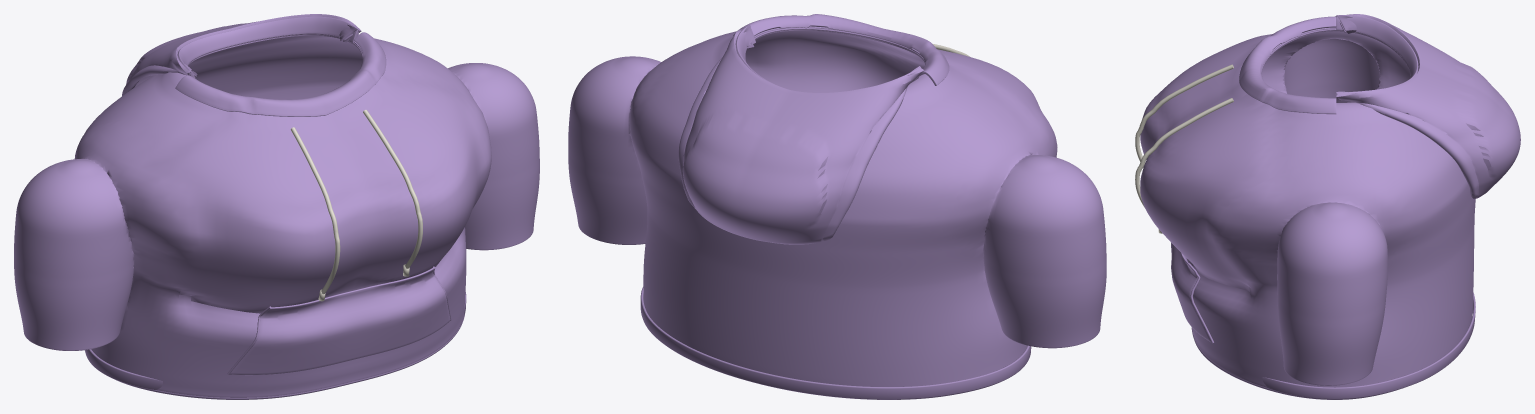
The model's file is Feminine-sweatshirt-top.glb.
The picture shows the model from 3 angles, left to right: view 1: azimuth 30°, elevation 25°; view 2: azimuth 150°, elevation 25°; view 3: azimuth 270°, elevation 25°; orthographic projection. The views are drawn at different scales.
Parts seen in each view (by area): view 1: Clothing / joined sweatshirt186, Hoodie / kangaroo pocket, Hoodie / soft front fold188, Hoodie / seated rear fold187, Hoodie / resting hood, Hoodie / ribbed hem, Hoodie / drawcord -1 export, Hoodie / drawcord 1 export, Shirt / seated hem export; view 2: Clothing / joined sweatshirt186, Hoodie / resting hood, Hoodie / ribbed hem, Hoodie / soft front fold188; view 3: Clothing / joined sweatshirt186, Hoodie / resting hood, Hoodie / soft front fold188, Hoodie / ribbed hem, Hoodie / seated rear fold187, Hoodie / kangaroo pocket, Hoodie / drawcord 1 export, Hoodie / drawcord -1 export, Shirt / seated hem export.
Part boxes in pixels (box(x1,y1,x2,y2)): Clothing / joined sweatshirt186: box(14, 34, 539, 397); Hoodie / kangaroo pocket: box(229, 268, 450, 375); Hoodie / soft front fold188: box(175, 32, 386, 116); Hoodie / seated rear fold187: box(177, 16, 359, 77); Hoodie / resting hood: box(122, 14, 361, 95); Hoodie / ribbed hem: box(85, 292, 466, 389); Hoodie / drawcord -1 export: box(290, 127, 340, 294); Hoodie / drawcord 1 export: box(363, 110, 422, 268); Shirt / seated hem export: box(114, 314, 464, 399); Clothing / joined sweatshirt186: box(568, 26, 1106, 386); Hoodie / resting hood: box(678, 25, 923, 244); Hoodie / ribbed hem: box(640, 287, 1031, 399); Hoodie / soft front fold188: box(733, 14, 949, 85); Clothing / joined sweatshirt186: box(1140, 27, 1475, 387); Hoodie / resting hood: box(1336, 14, 1520, 198); Hoodie / soft front fold188: box(1239, 16, 1336, 114); Hoodie / ribbed hem: box(1262, 292, 1475, 399); Hoodie / seated rear fold187: box(1336, 15, 1418, 102); Hoodie / kangaroo pocket: box(1171, 243, 1211, 342); Hoodie / drawcord 1 export: box(1135, 98, 1233, 207); Hoodie / drawcord -1 export: box(1135, 64, 1233, 167); Shirt / seated hem export: box(1191, 328, 1403, 399).
Size of the model in its own units: 0.9381 by 0.4907 by 0.6442.
